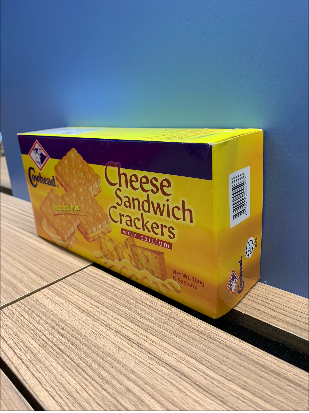Crackers_100-199g: (26, 140, 211, 260)
